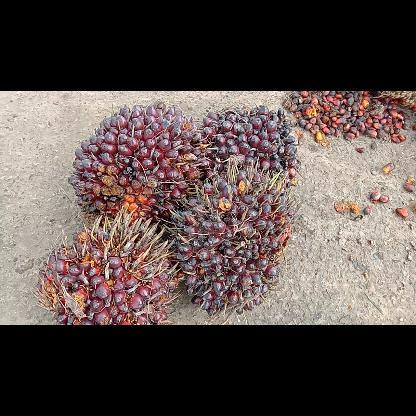Kurang masak: (165, 166, 295, 318), (34, 204, 184, 324), (196, 104, 300, 196)
TBS masak: (67, 98, 205, 236)
